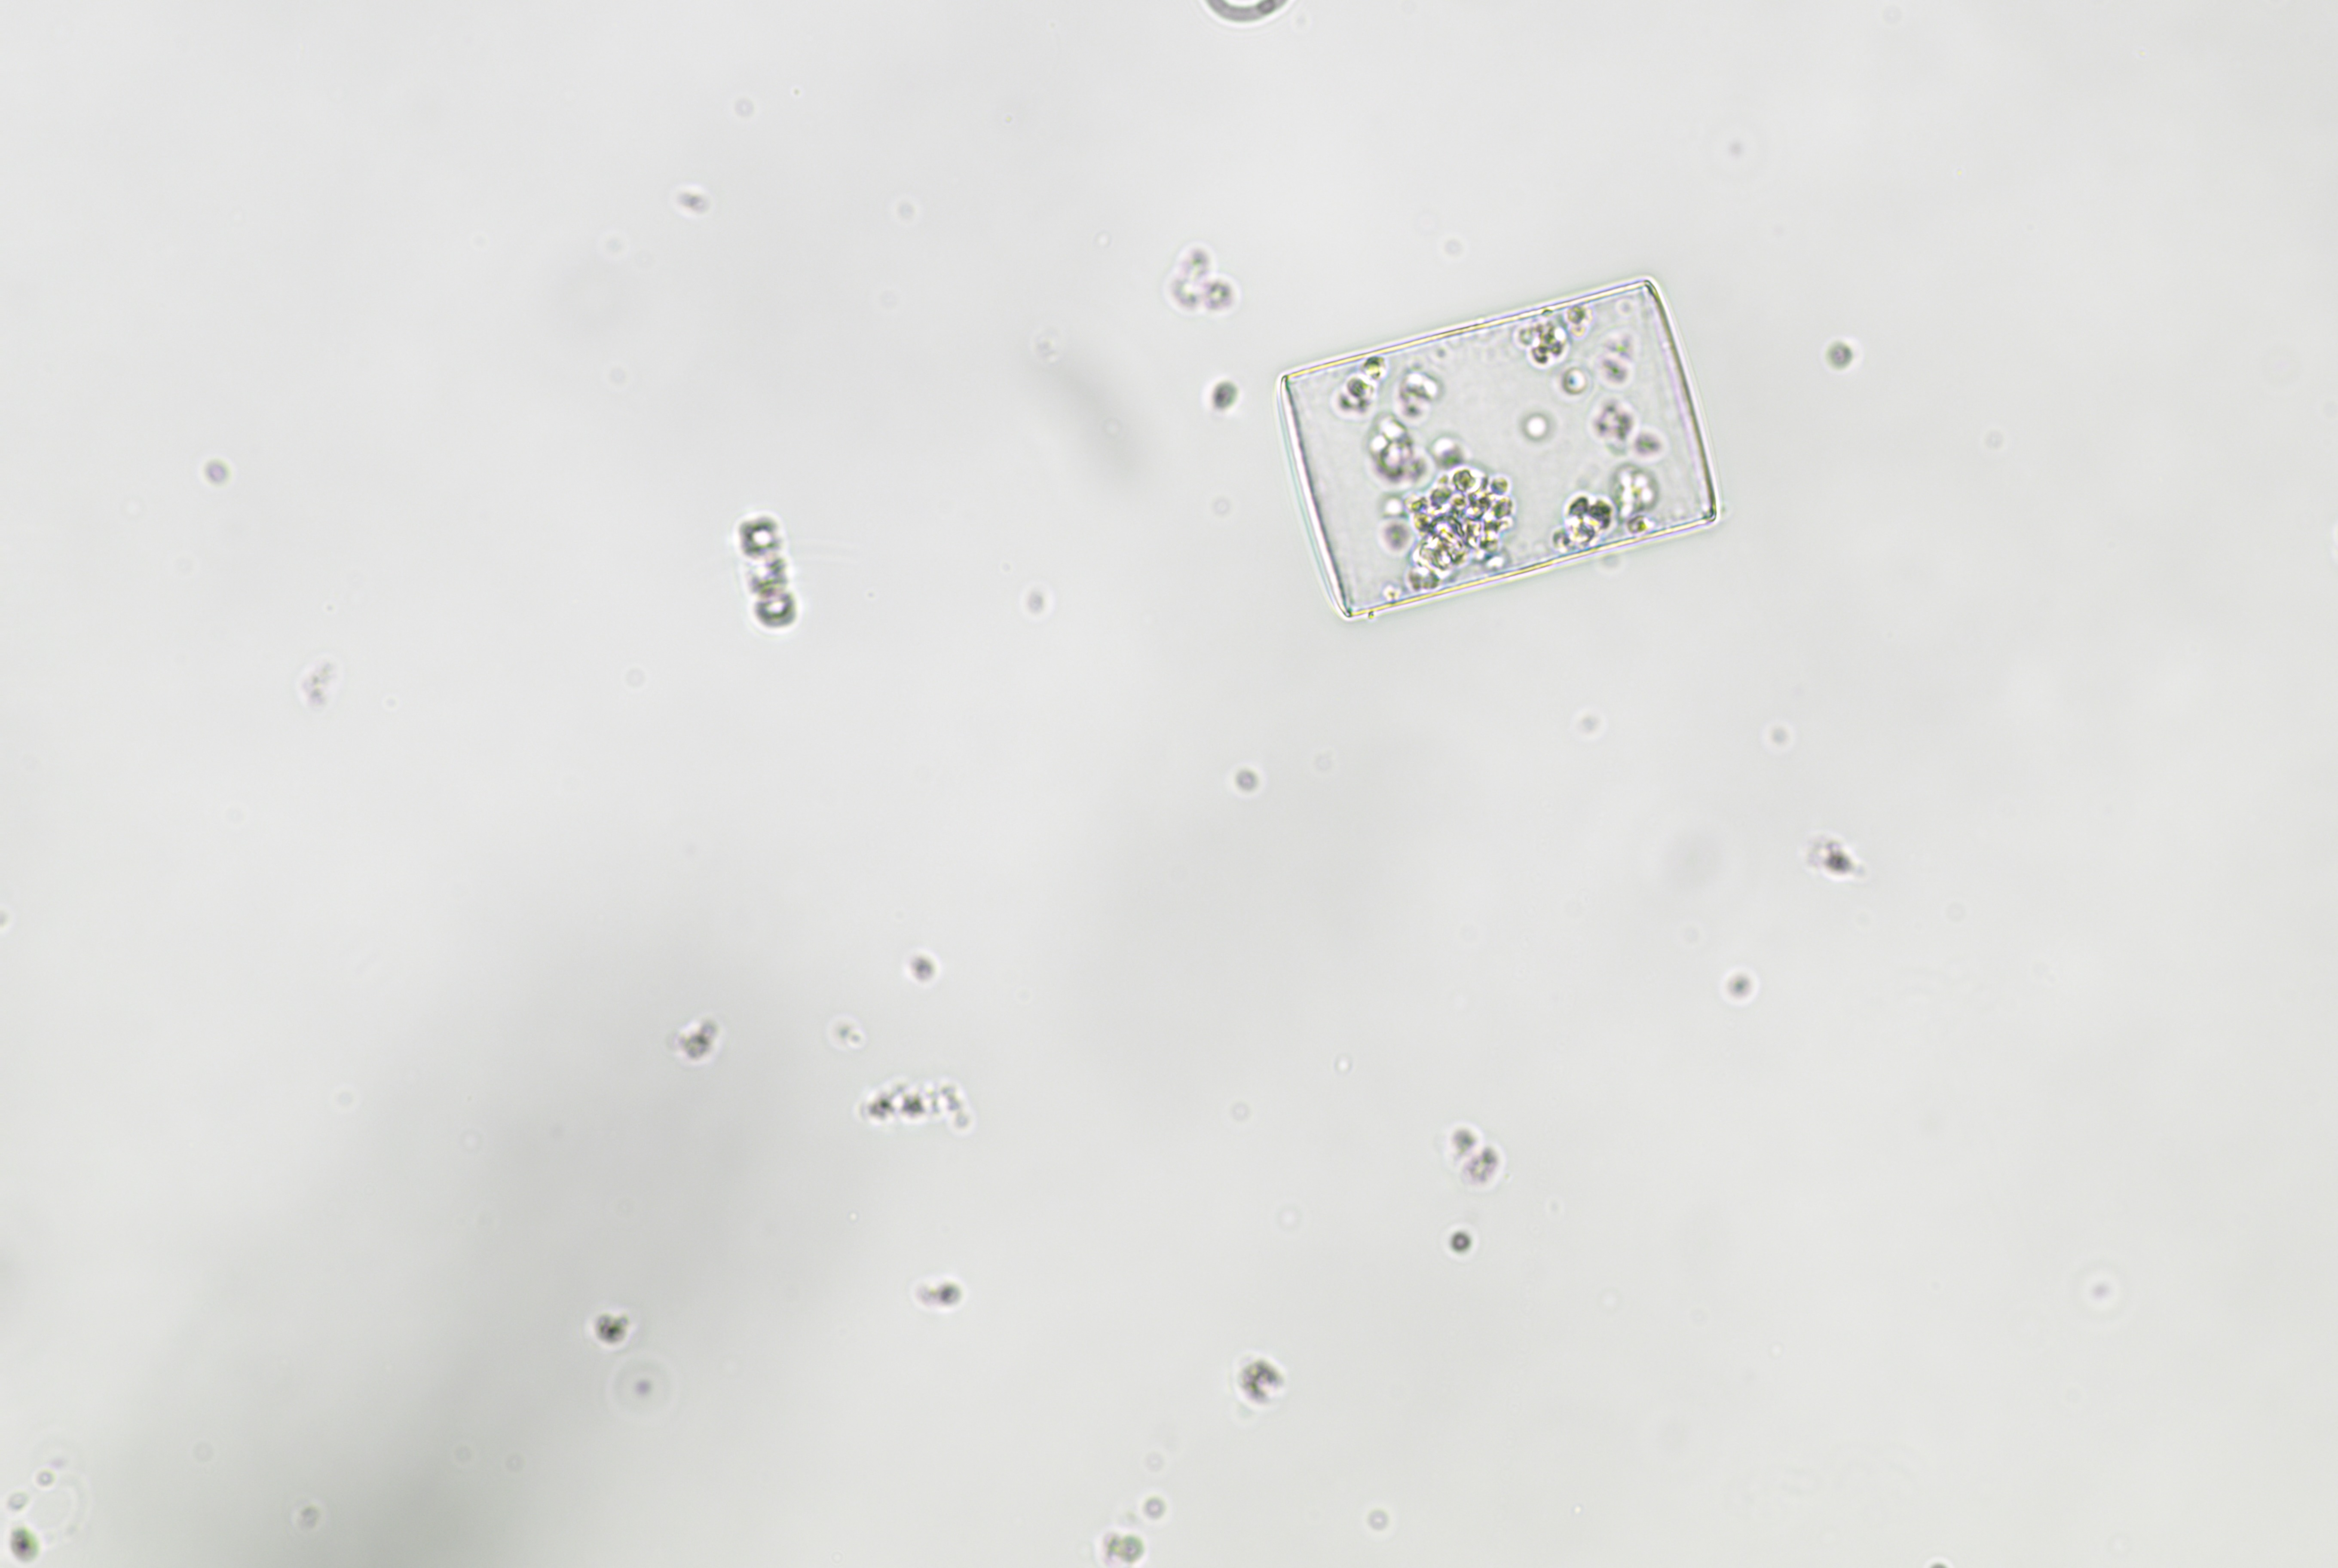guinardia flaccida: (1255, 257, 1767, 635)
